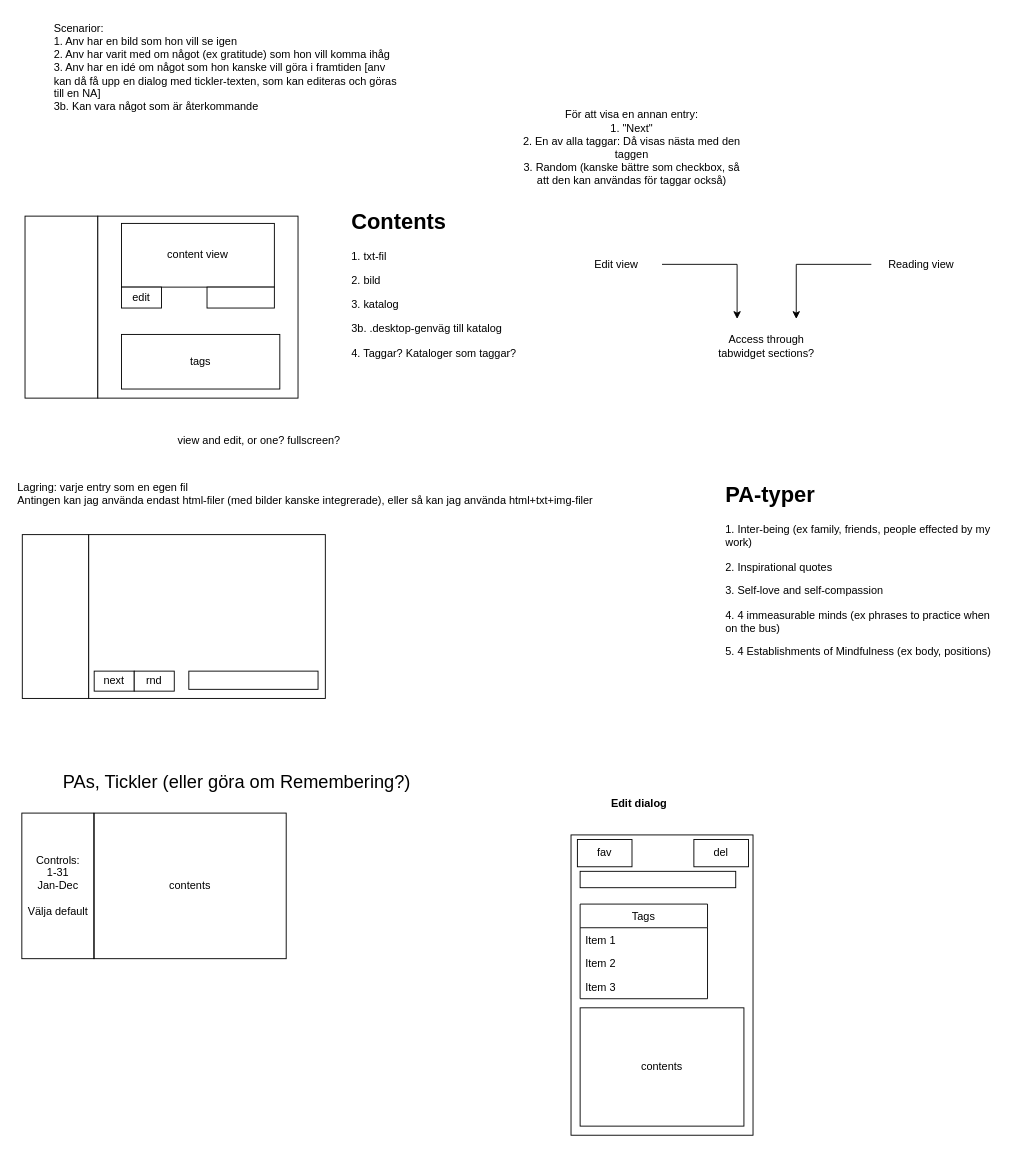
This 1009x1151 diagram has some shape labels left out. The box of each missing label's shape, as (x1, y1, x2, y2) in pixels:
(file) name: (579, 870, 736, 888)
fullscreen: (206, 286, 274, 308)
tags, click to see more: (188, 670, 318, 689)
